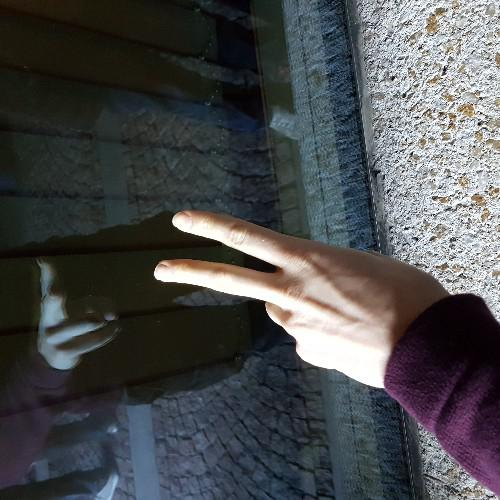scissors: (146, 196, 450, 385)
